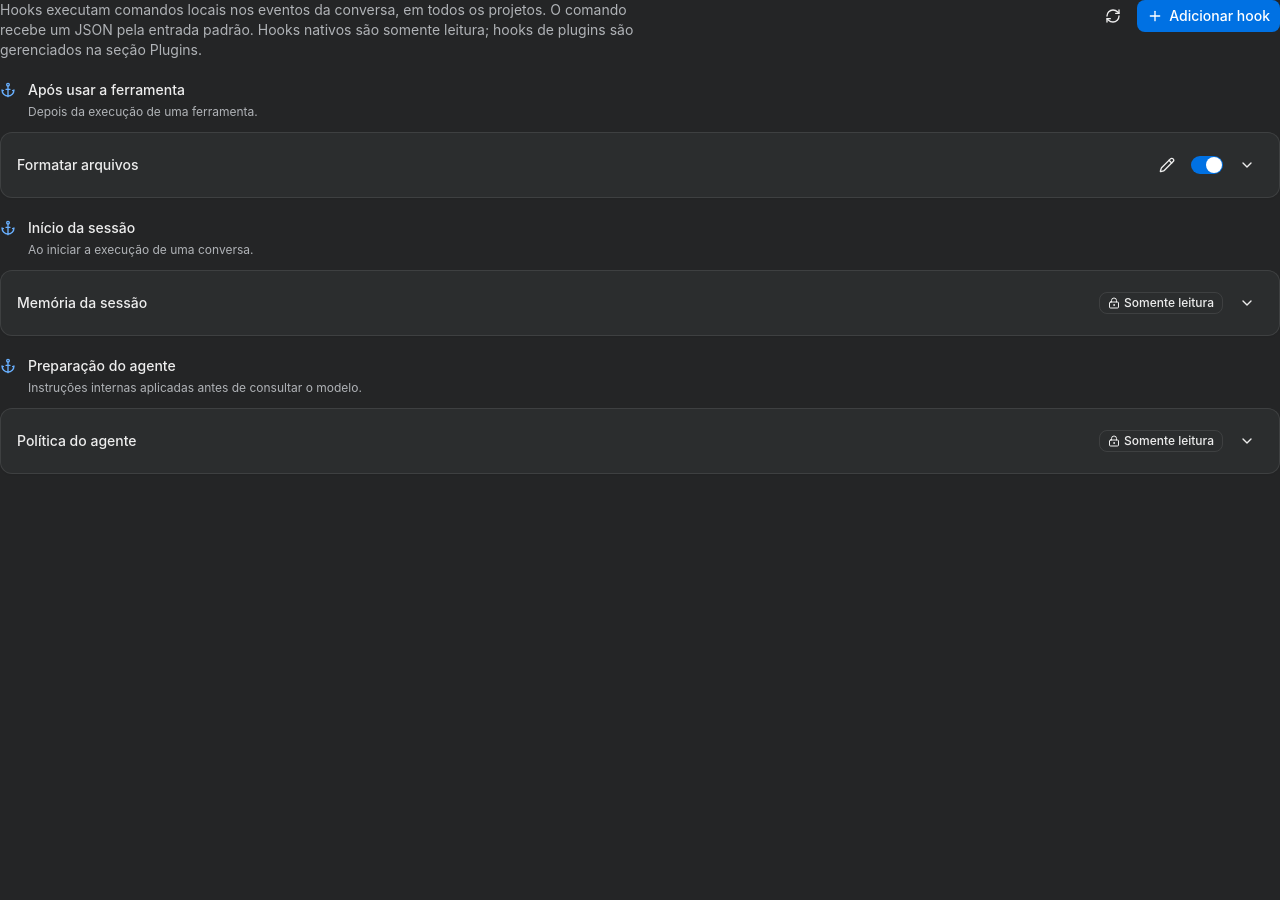
HooksSettings › edits a manual hook and retains unsaved input after storage failure
Click the button named "Editar hook Formatar arquivos" at (1167, 165), box [1151,149,1183,181]
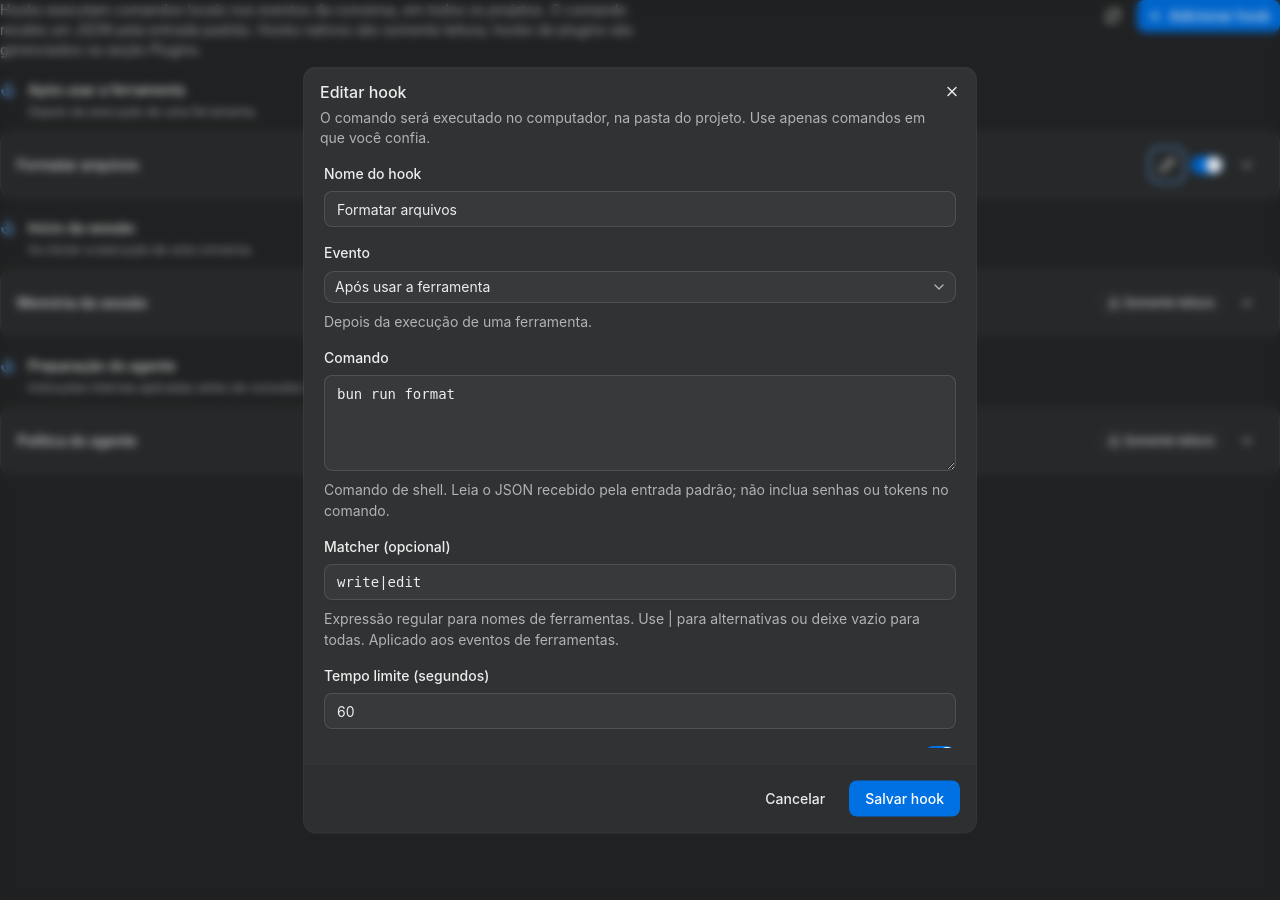
Replace the text in the text box labelled "Comando" with "bun run lint" at (640, 422), box [324,374,956,470]
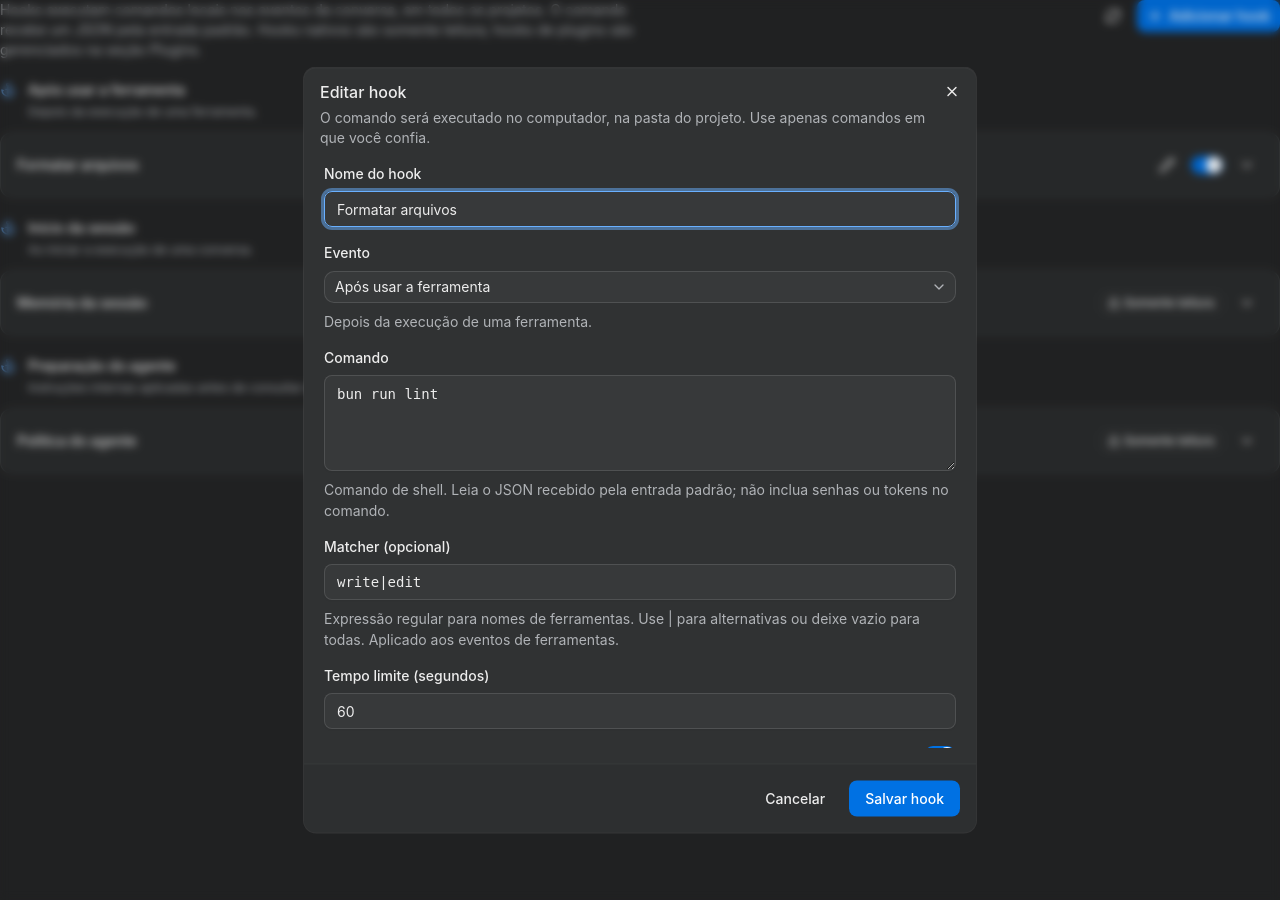
Click the button "Salvar hook" at (905, 798), box [849,780,960,816]
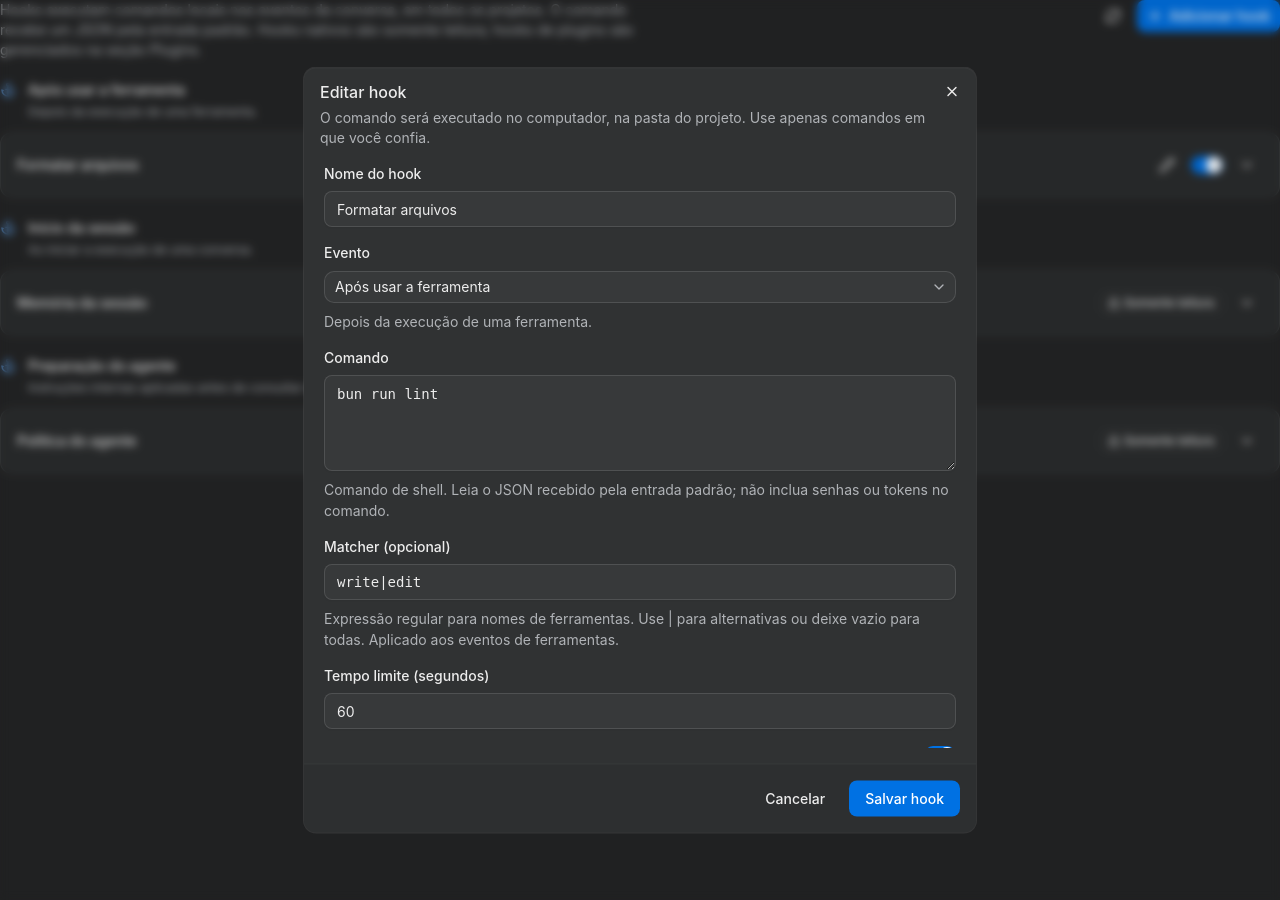
Click the button "Salvar hook" at (905, 798), box [849,780,960,816]
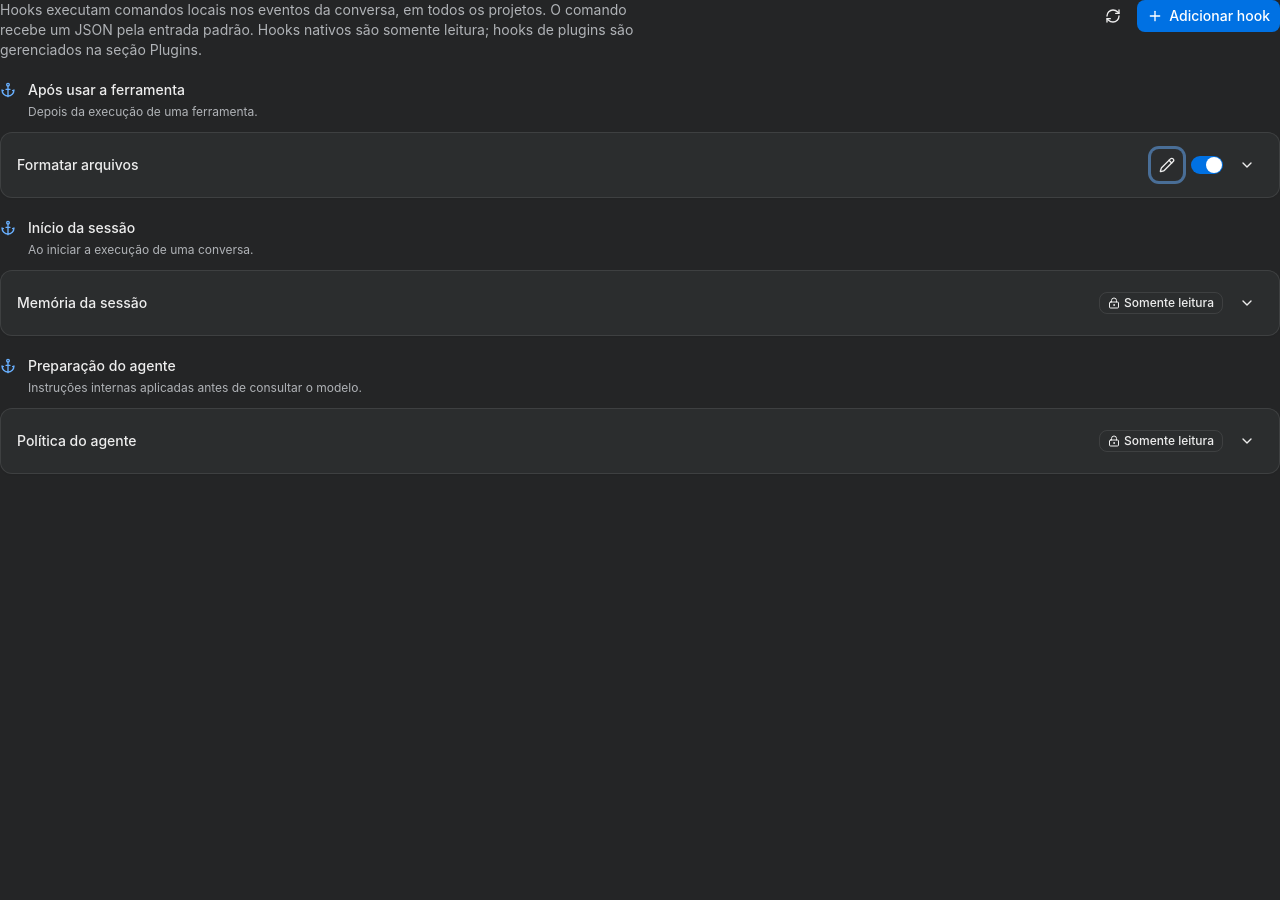
Check: the dialog is gone
